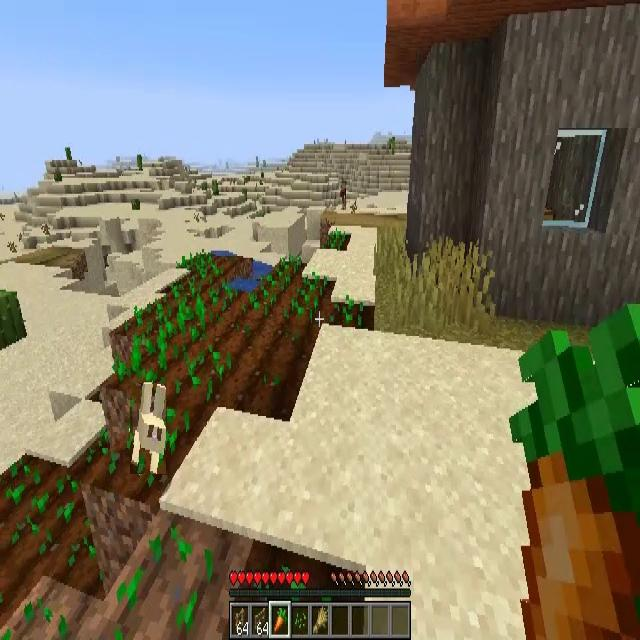rabbit: (130, 383, 166, 474)
